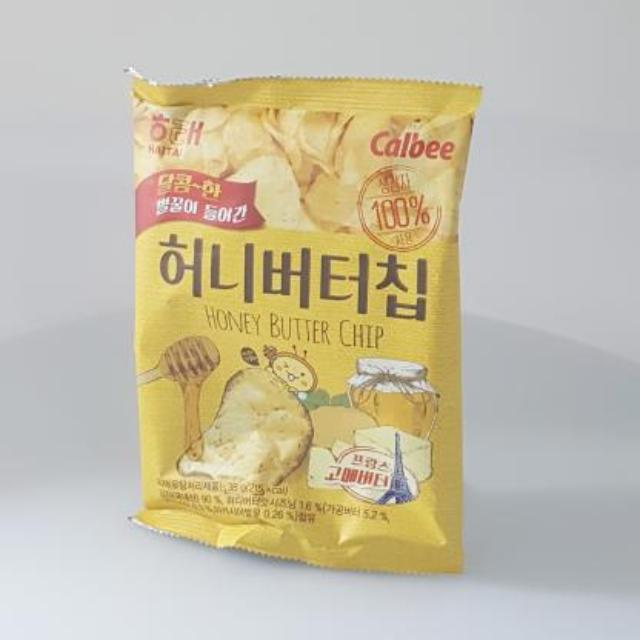snack_bag: (111, 56, 511, 592)
